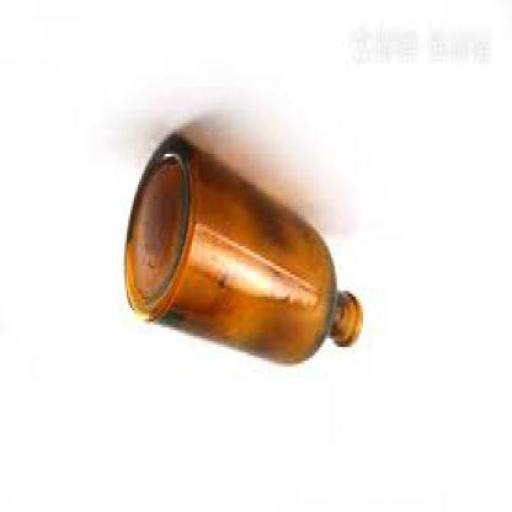glass: (122, 137, 362, 366)
